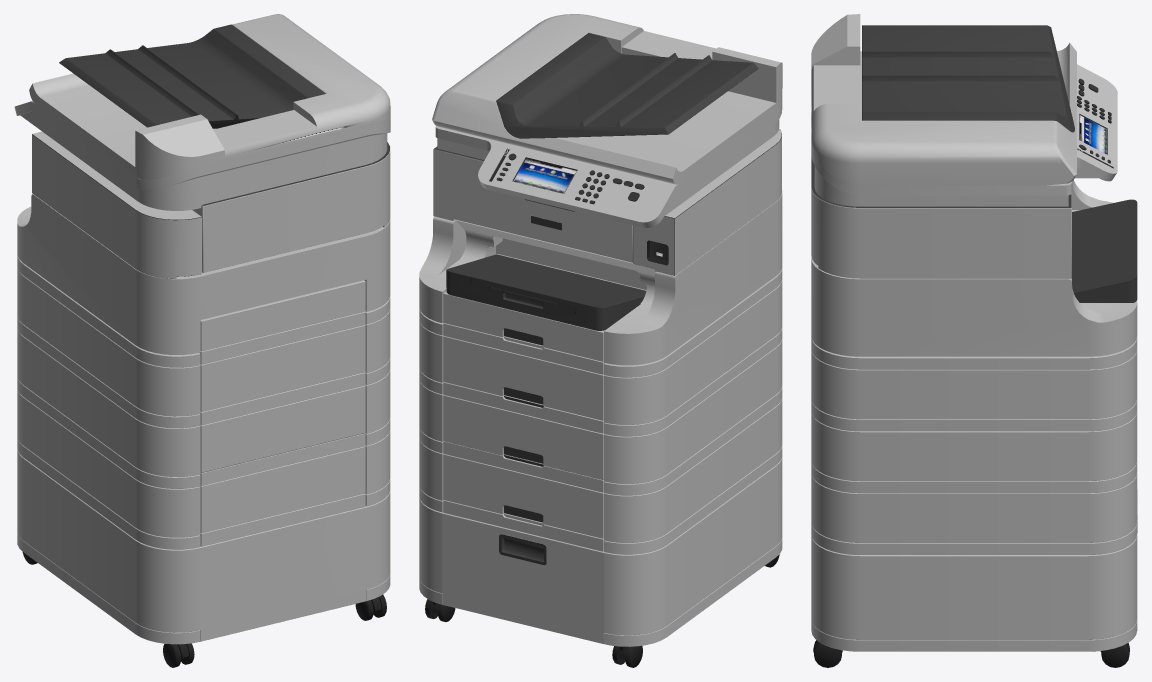
File: photocopieuse.obj
3 views of the same model, side by side, from view 1: azimuth 30°, elevation 25°; view 2: azimuth 150°, elevation 25°; view 3: azimuth 270°, elevation 25° (orthographic). The views are drawn at different scales.
Parts seen in each view (by area): view 1: Entity_1_Mesh_0; view 2: Entity_1_Mesh_0; view 3: Entity_1_Mesh_0.
Boxes of the visible parts, bbox=[...] form: Entity_1_Mesh_0: bbox=[14, 14, 390, 667]; Entity_1_Mesh_0: bbox=[419, 14, 782, 667]; Entity_1_Mesh_0: bbox=[811, 14, 1137, 667].
Size of the model in its own units: 0.7616 by 1.55 by 0.8473.
4 materials, 3 textured.
